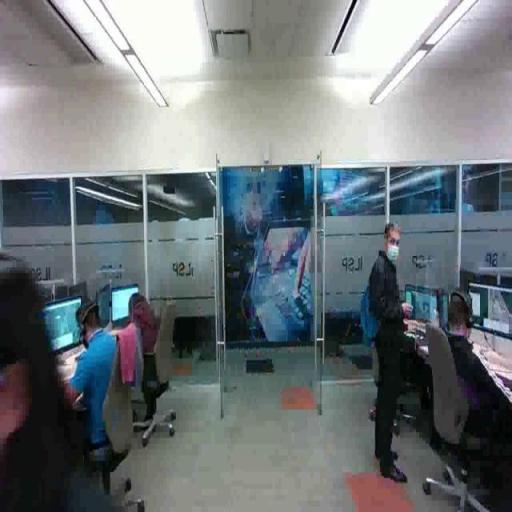person: (438, 290, 512, 512), (360, 222, 420, 487), (61, 296, 141, 492), (113, 290, 172, 400)
